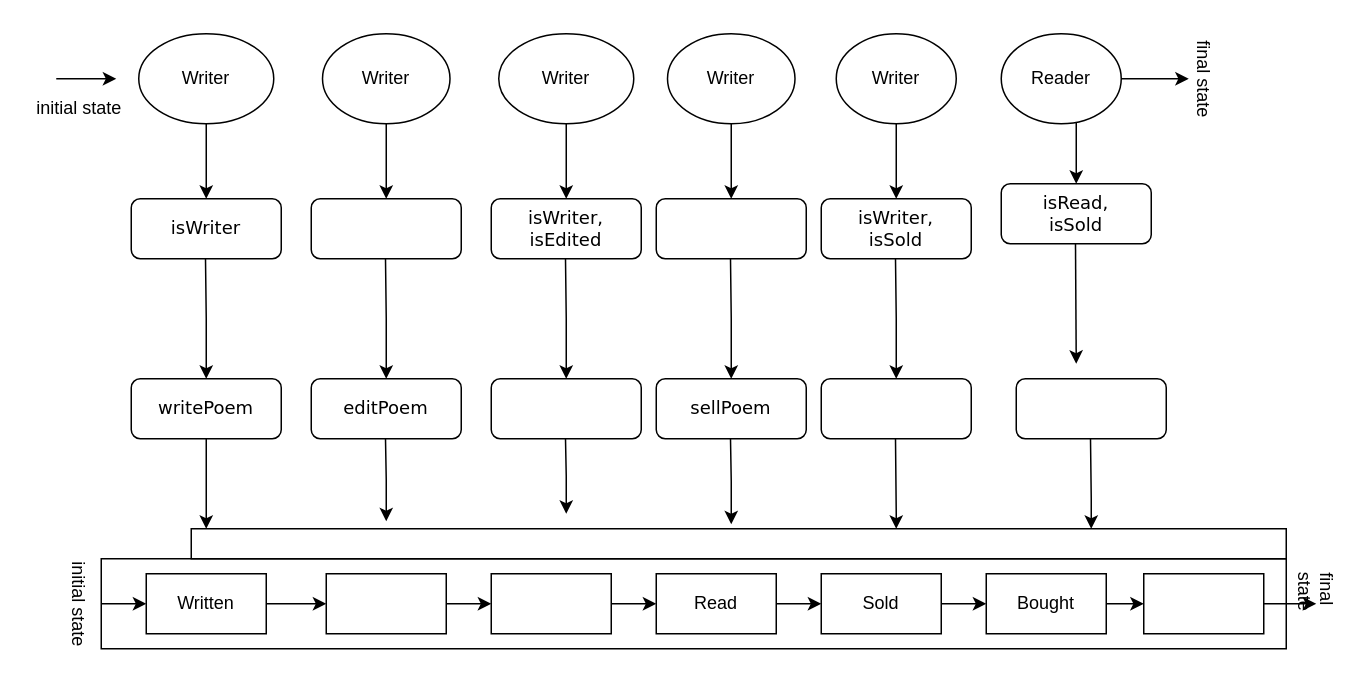
The diagram is 1364 pixels wide and 681 high, and some of its shapes have lost their labels. Here are the shapes that lost their labels. From the top down, the centre of each, then its label:
pixel 385 228: isWriter, isWritten
pixel 730 228: isWriter, isPublished
pixel 565 408: publishPoem
pixel 895 408: readPoem
pixel 1090 408: buyPoem
pixel 738 543: Poem state
pixel 385 603: Edited
pixel 550 603: Published
pixel 1203 603: Purchased
